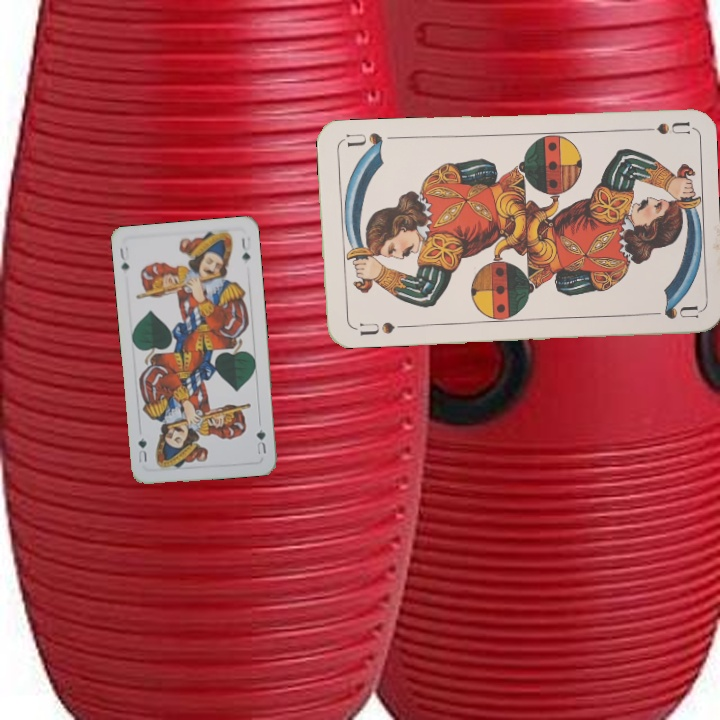GU: (252, 425, 269, 458), (116, 242, 132, 273)
SU: (631, 117, 690, 137), (356, 318, 397, 338)
